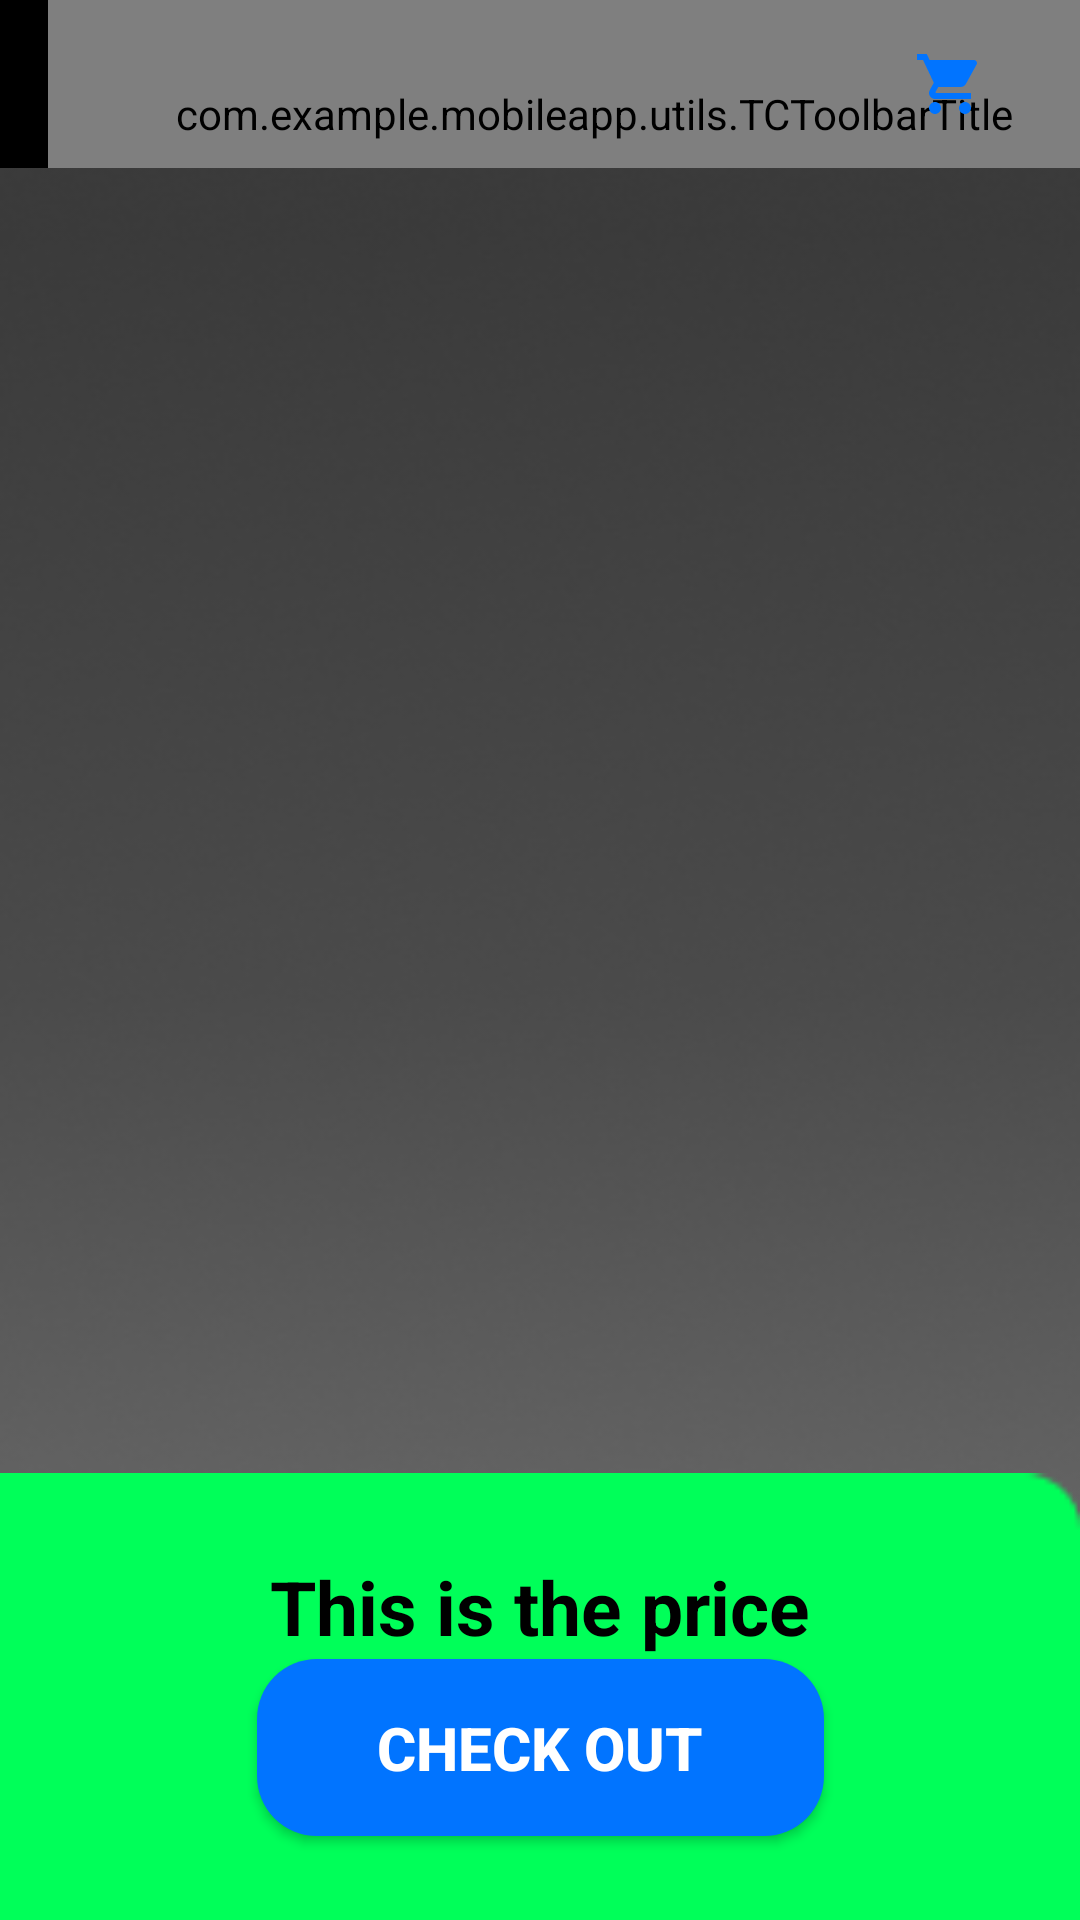

Named icons in this screenshot (1080px x 1920px) and their bounding boxes, (x1, y1, x2, y2):
shopping cart: (917, 54, 977, 99)
